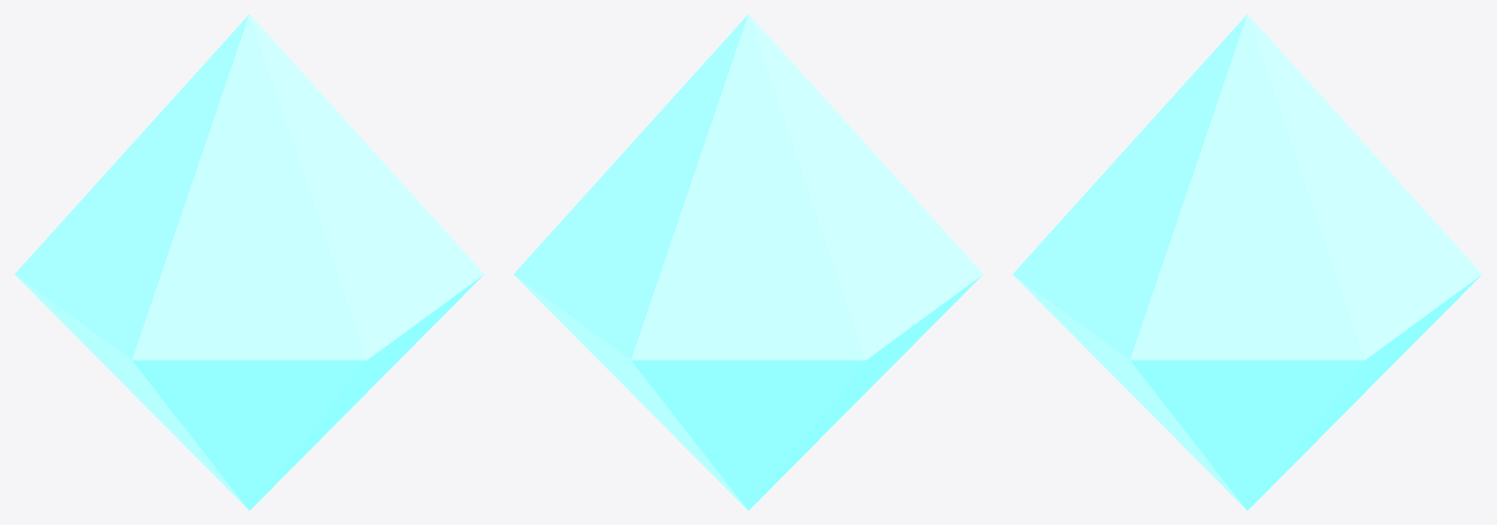
The model's file is cristal_lapidado.glb.
3 renders of one model, left to right at view 1: azimuth 30°, elevation 25°; view 2: azimuth 150°, elevation 25°; view 3: azimuth 270°, elevation 25°, orthographic.
Parts seen in each view (by area): view 1: cristal_lapidado; view 2: cristal_lapidado; view 3: cristal_lapidado.
Part boxes in pixels (left/top/right/bottom): cristal_lapidado: left=14, top=14, right=484, bottom=510; cristal_lapidado: left=513, top=14, right=983, bottom=510; cristal_lapidado: left=1012, top=14, right=1482, bottom=510.
Size of the model in its own units: 0.1559 by 0.21 by 0.18.
